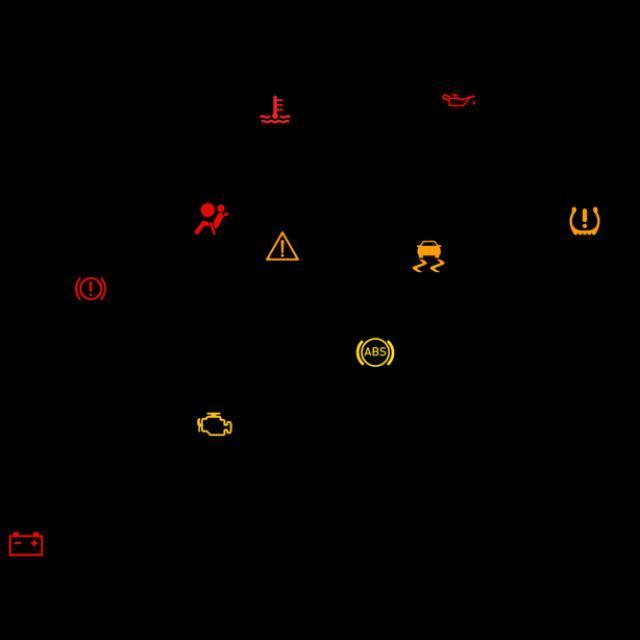High Engine Coolant Temperature: (254, 88, 296, 130)
